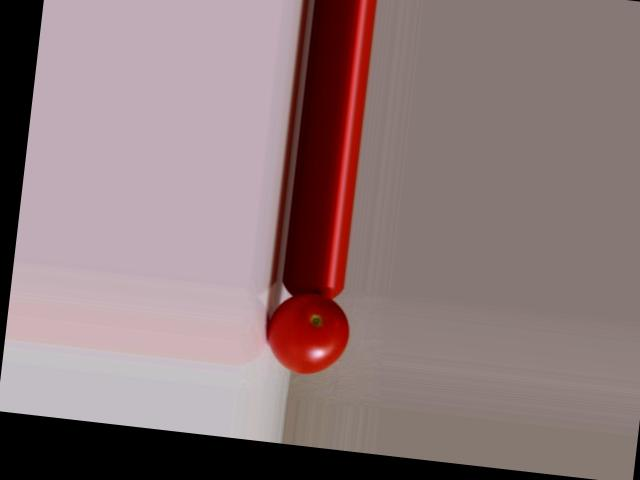tomato: (264, 289, 352, 378)
